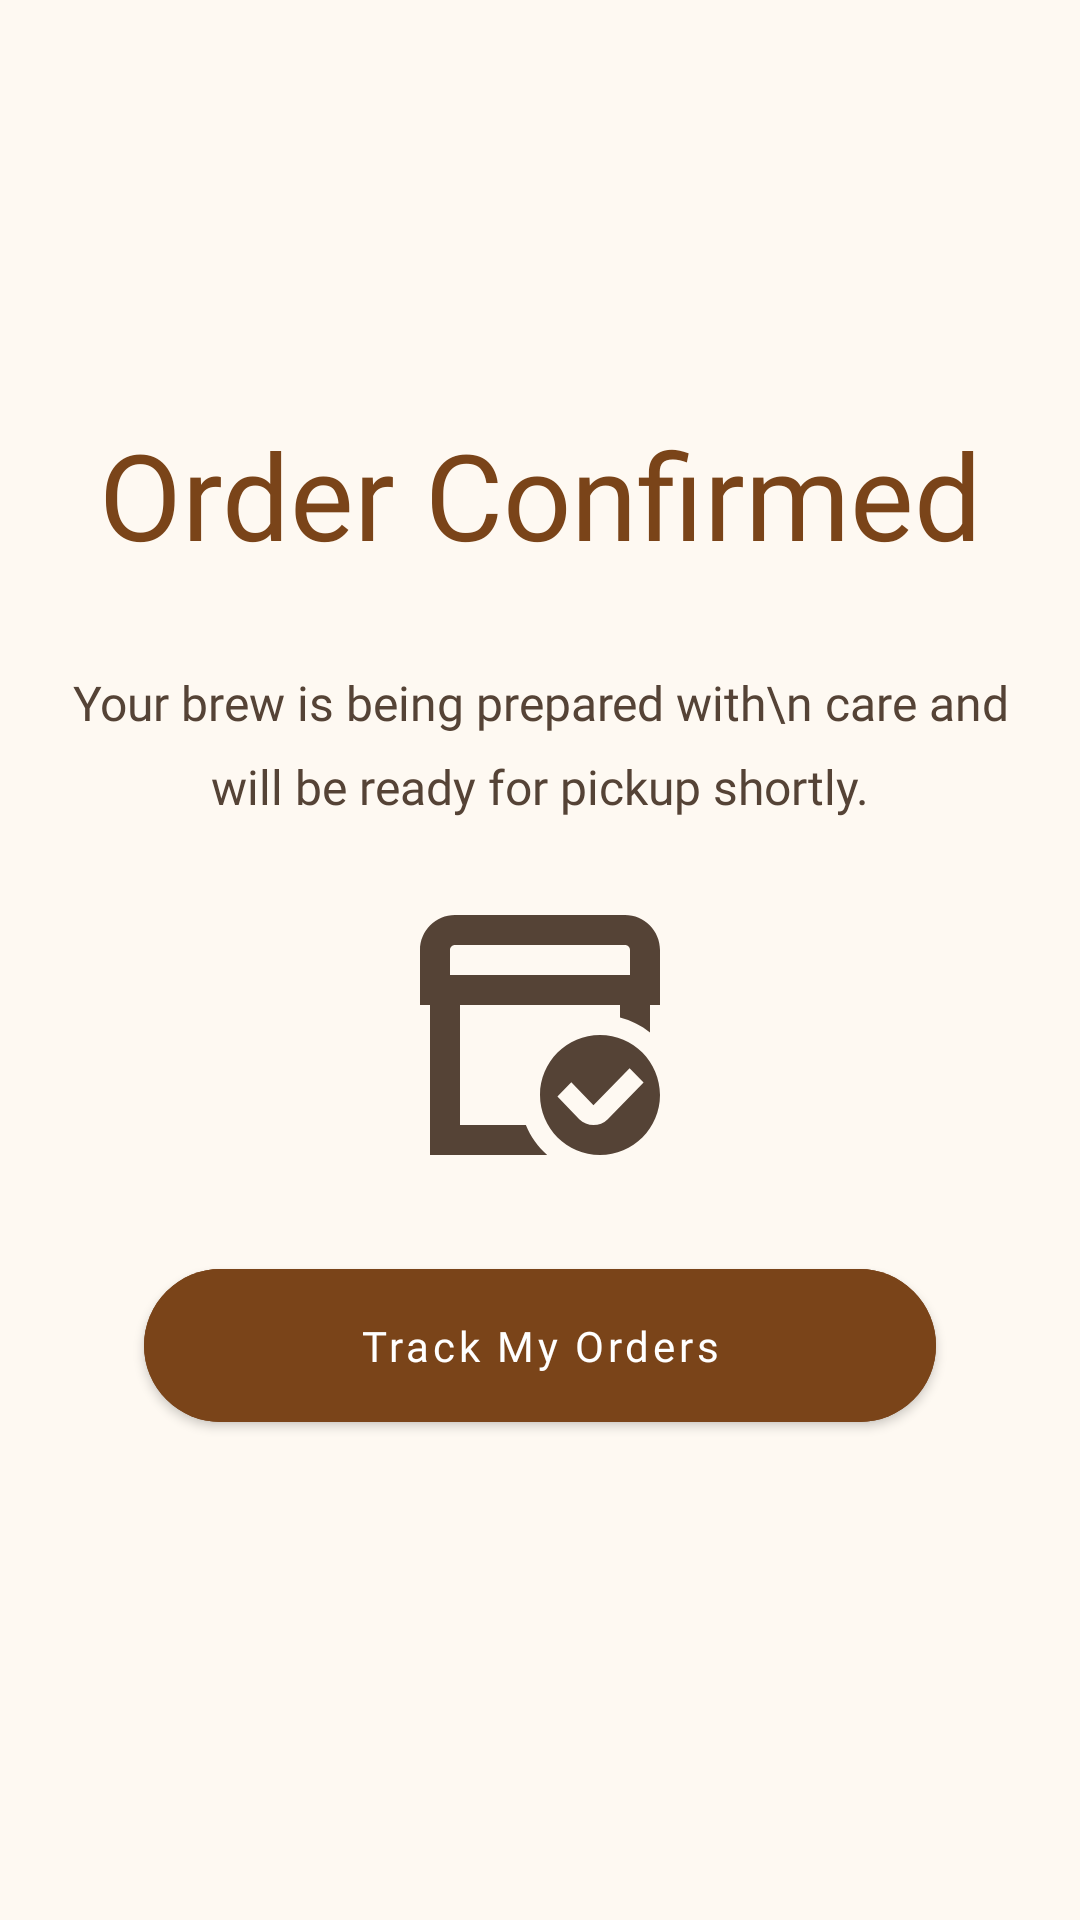

Where to tap for icons on this 1080 x 1920 app screen, as point (x, y):
order complete: point (540, 1035)
